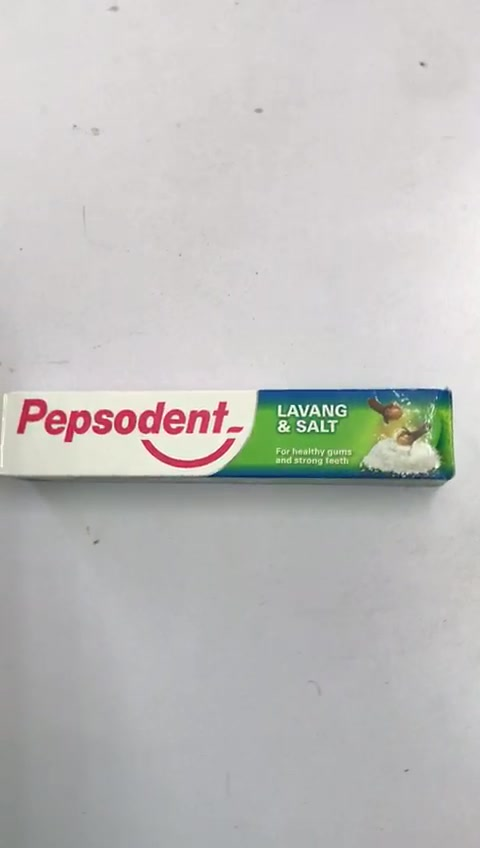pepsodent: (4, 391, 453, 476)
